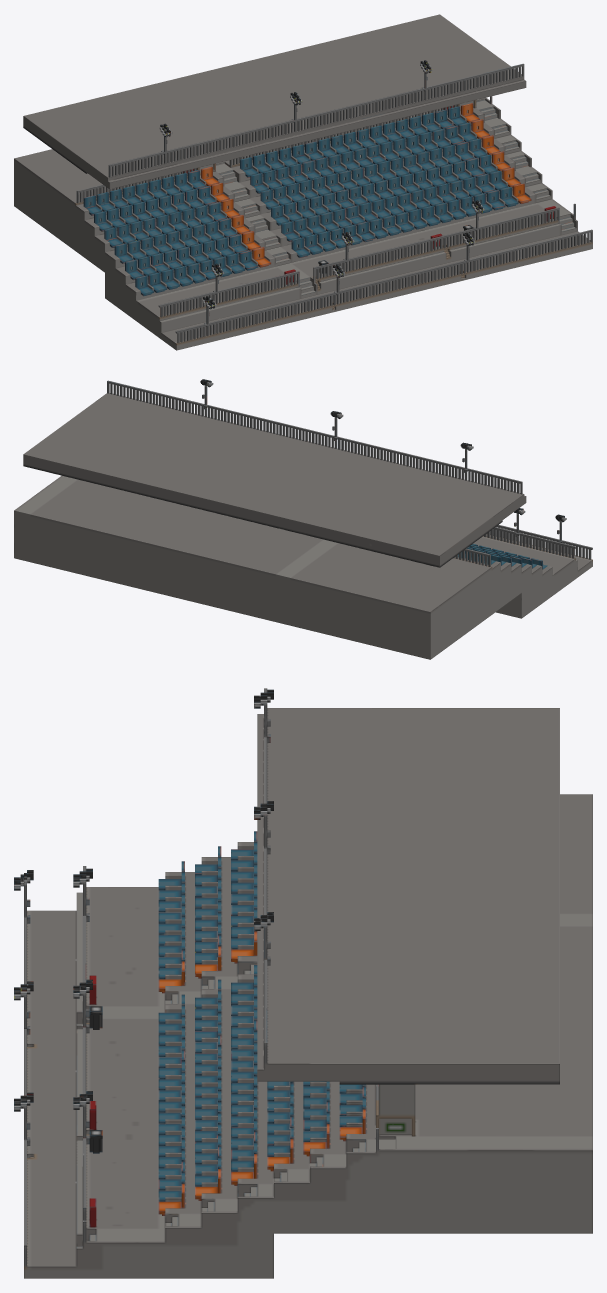
The model's file is Scene_Terrain_Stands_Low_M_2.fbx.
3 renders of one model, top to bottom at view 1: azimuth 30°, elevation 25°; view 2: azimuth 150°, elevation 25°; view 3: azimuth 270°, elevation 25°, orthographic. The views are drawn at different scales.
Parts seen in each view (by area): view 1: Scene_Terrain_Stands_Low_M_2.001; view 2: Scene_Terrain_Stands_Low_M_2.001; view 3: Scene_Terrain_Stands_Low_M_2.001.
Part boxes in pixels (x1=…): Scene_Terrain_Stands_Low_M_2.001: x1=14, y1=14, x2=592, y2=350; Scene_Terrain_Stands_Low_M_2.001: x1=14, y1=379, x2=592, y2=659; Scene_Terrain_Stands_Low_M_2.001: x1=14, y1=688, x2=592, y2=1278.
Size of the model in its own units: 25.6 by 9.4 by 17.6.
1 material, 1 textured.
